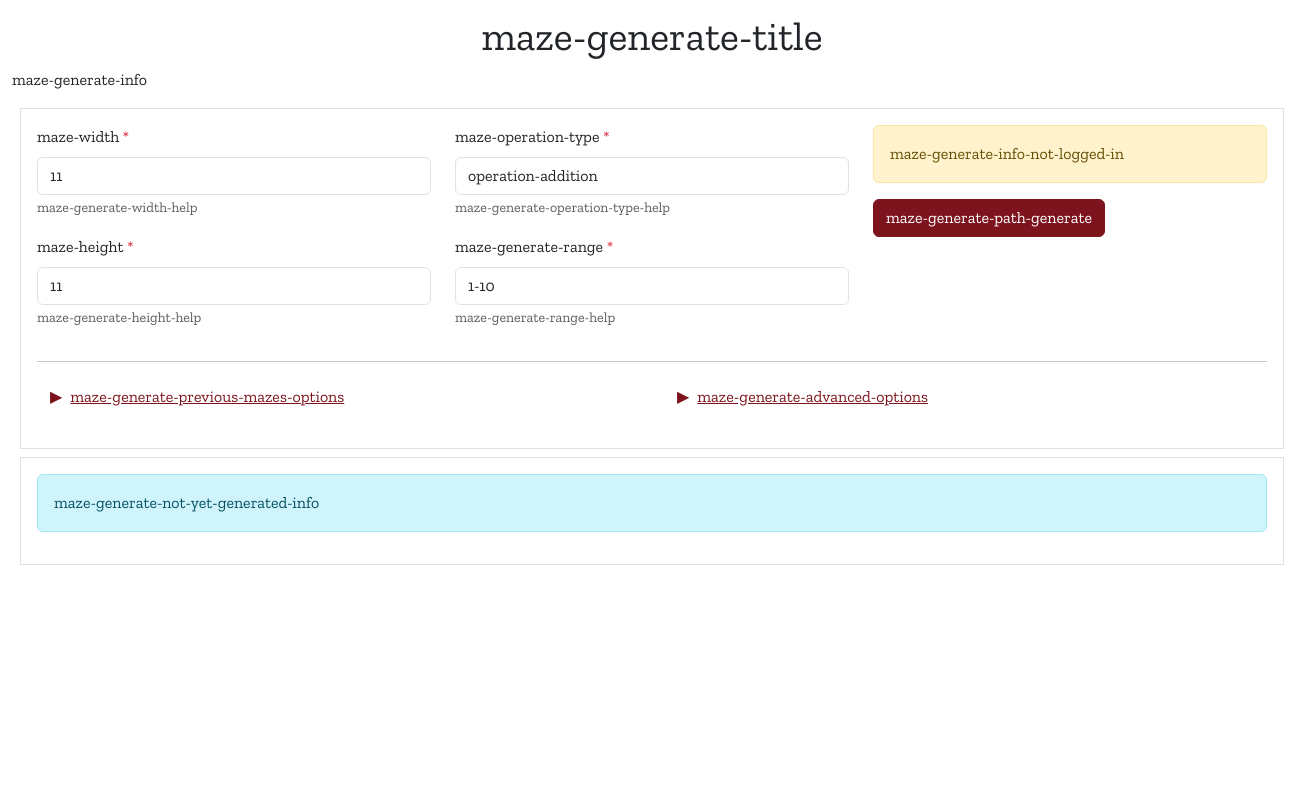
Test: GenerateMaze › renders and submits the form when the form is valid but receives InvalidMazeDimensionException
Click the button "maze-generate-path-generate": (989,218) [873,199,1105,237]
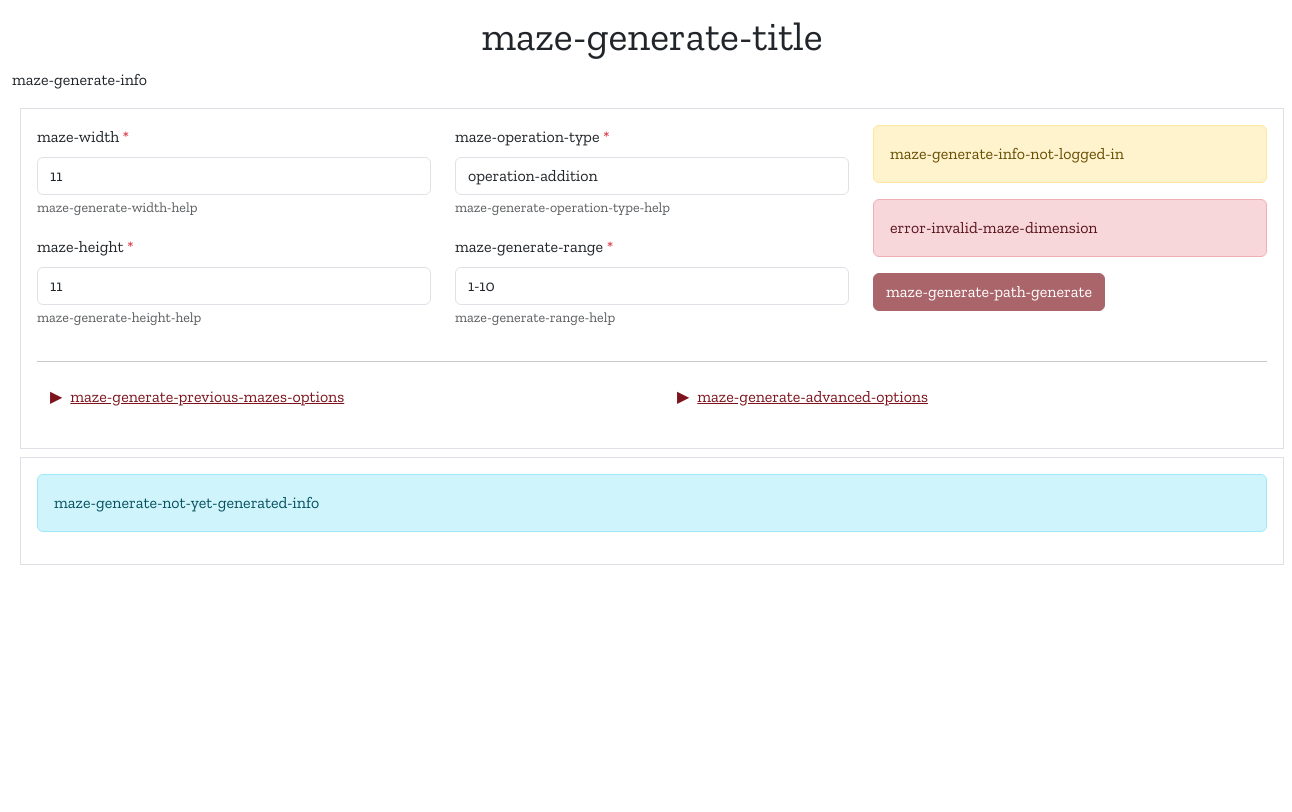
Now the text "error-invalid-maze-dimension" is shown, box [873,199,1267,257]
